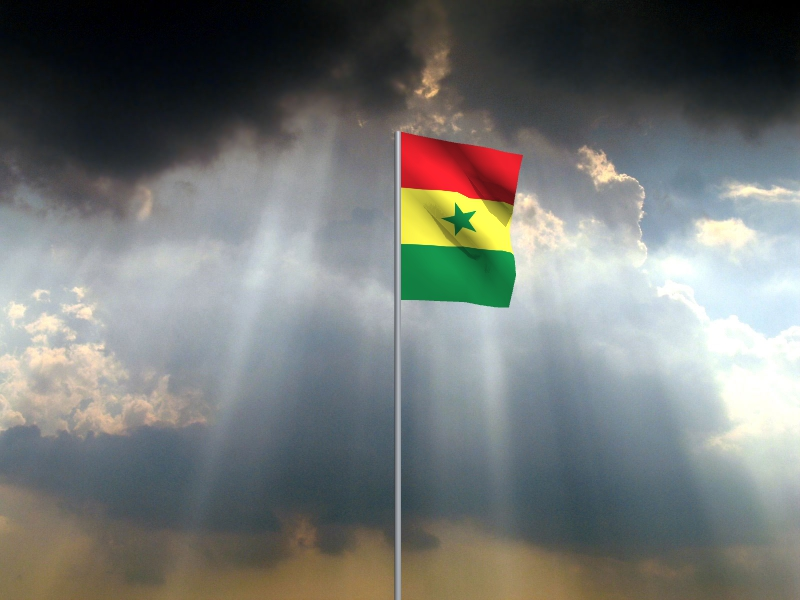sn: (401, 133, 525, 309)
